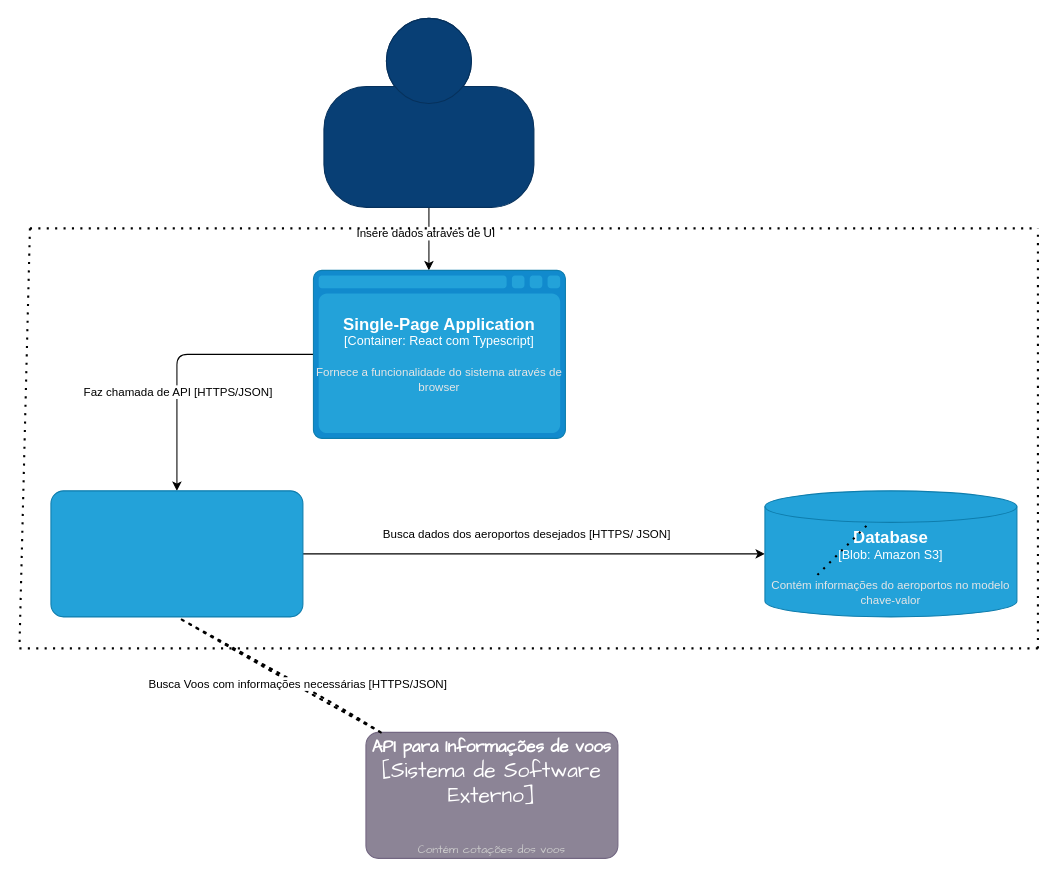
This 1057x877 diagram has some shape labels left out. Each missing label, with the centre of its shape:
"Agente de Voos [Person] Busca voos conforme filtros" goes at pixel 428 112.
"Backend [Container: Python] Agrega dados conforme a busca do usuário" goes at pixel 176 553.
